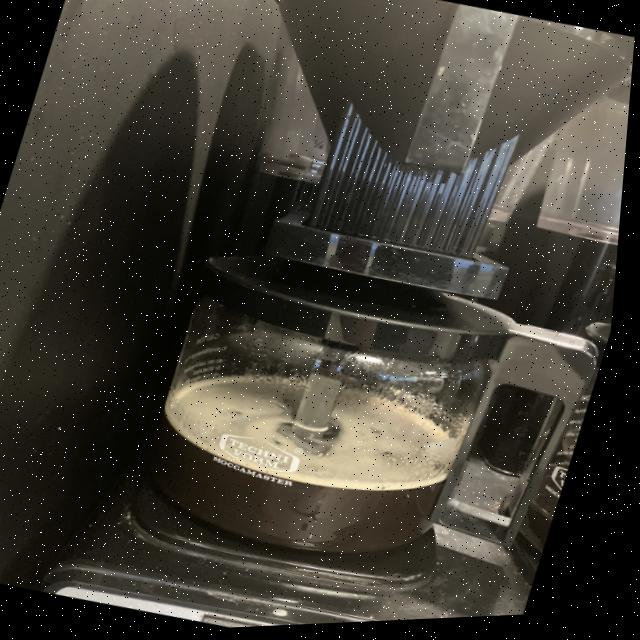coffee: (126, 240, 538, 596), (493, 316, 618, 579)
